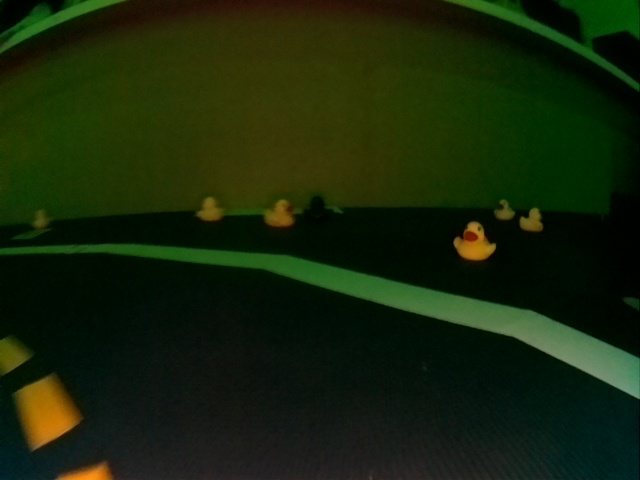Duckie: (453, 221, 496, 259), (264, 200, 292, 227), (520, 208, 541, 230), (196, 197, 218, 217), (495, 199, 513, 221)
